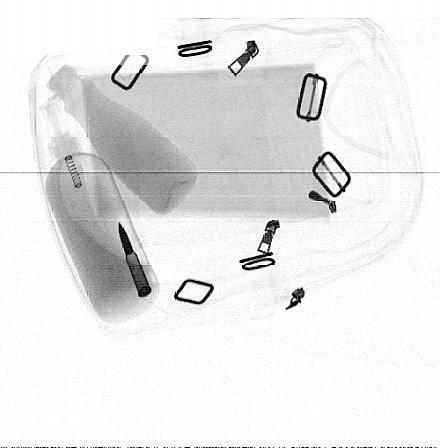Bullet: (118, 219, 153, 298)
